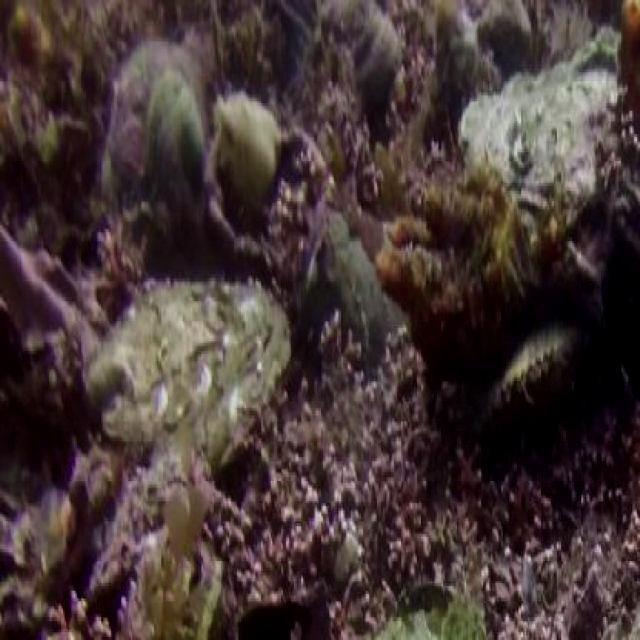Oyster-Closed: (86, 278, 294, 458), (456, 66, 620, 210), (95, 34, 209, 226), (484, 321, 594, 428), (318, 211, 392, 357), (134, 522, 224, 640), (211, 90, 283, 192), (430, 11, 484, 105)
Oyster-Open: (348, 11, 402, 105)
